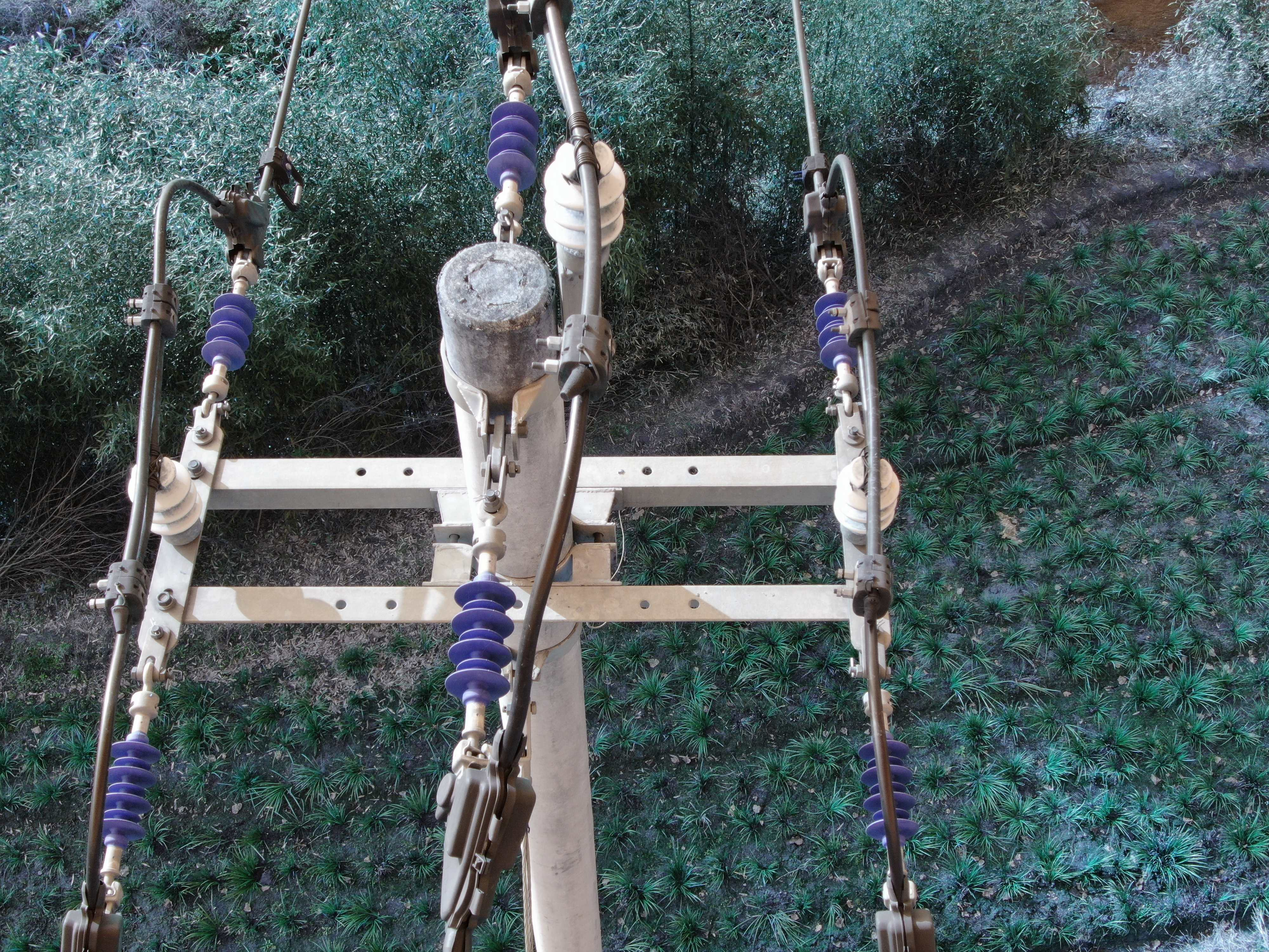severe_soiling_no_discharge_whole: (538, 131, 629, 275), (127, 451, 208, 548), (829, 450, 904, 548)
